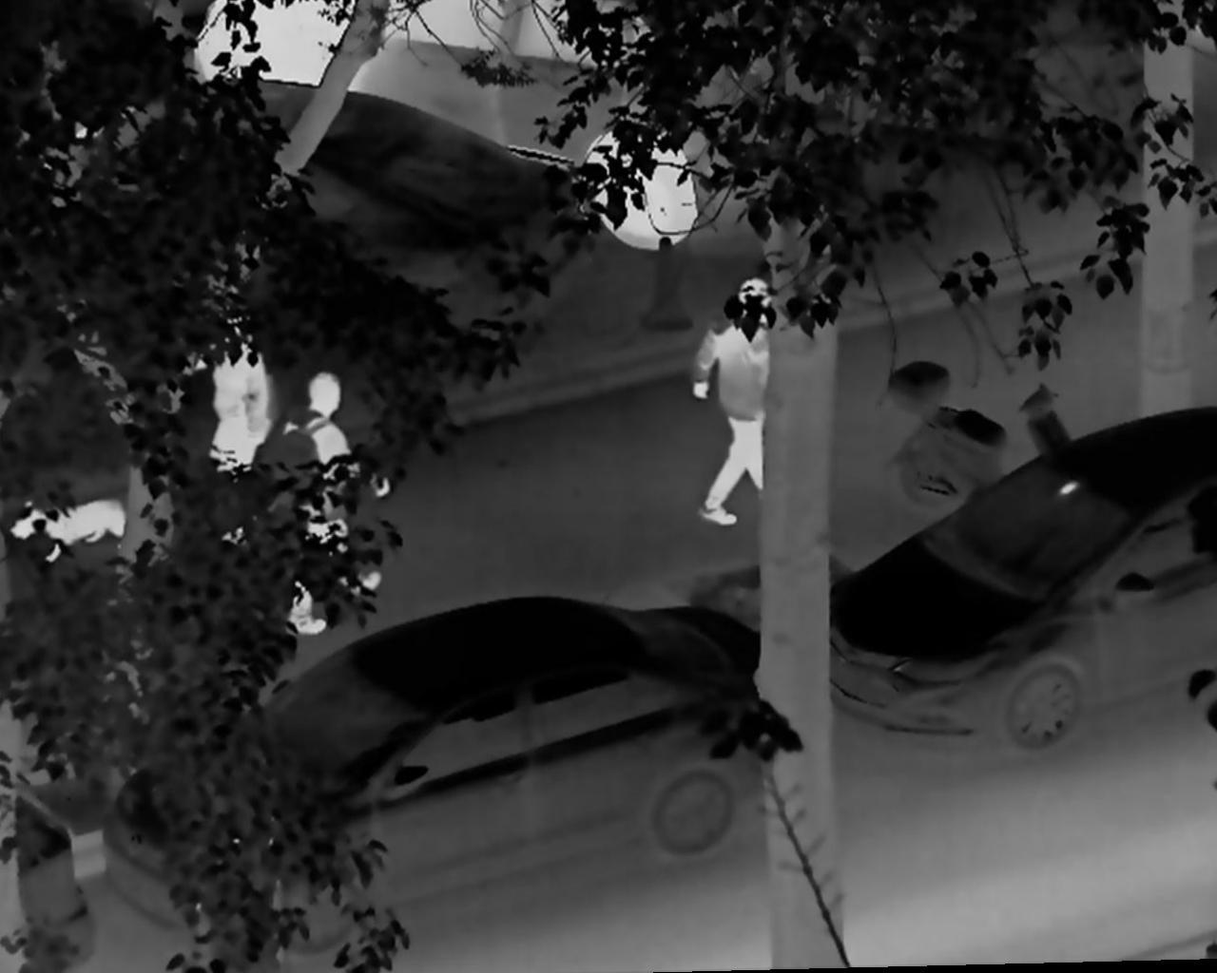person: (265, 372, 388, 639), (692, 254, 774, 527), (191, 315, 272, 546)
